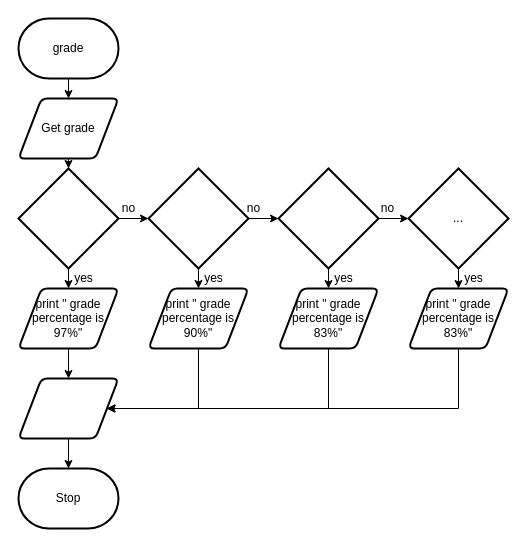
This 526x546 diagram has some shape labels left out. The shapes that lost their labels are listed below. From the top down, each one's centre as x and y in pixels, then its label:
(68,218): if grade == "4+"
(198,218): elif grade == "4"
(328,218): elif grade == "4-"
(68,408): Return grade
